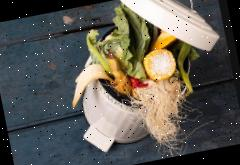organic: (94, 1, 156, 92), (62, 57, 136, 113), (140, 80, 196, 147), (142, 44, 176, 82)
